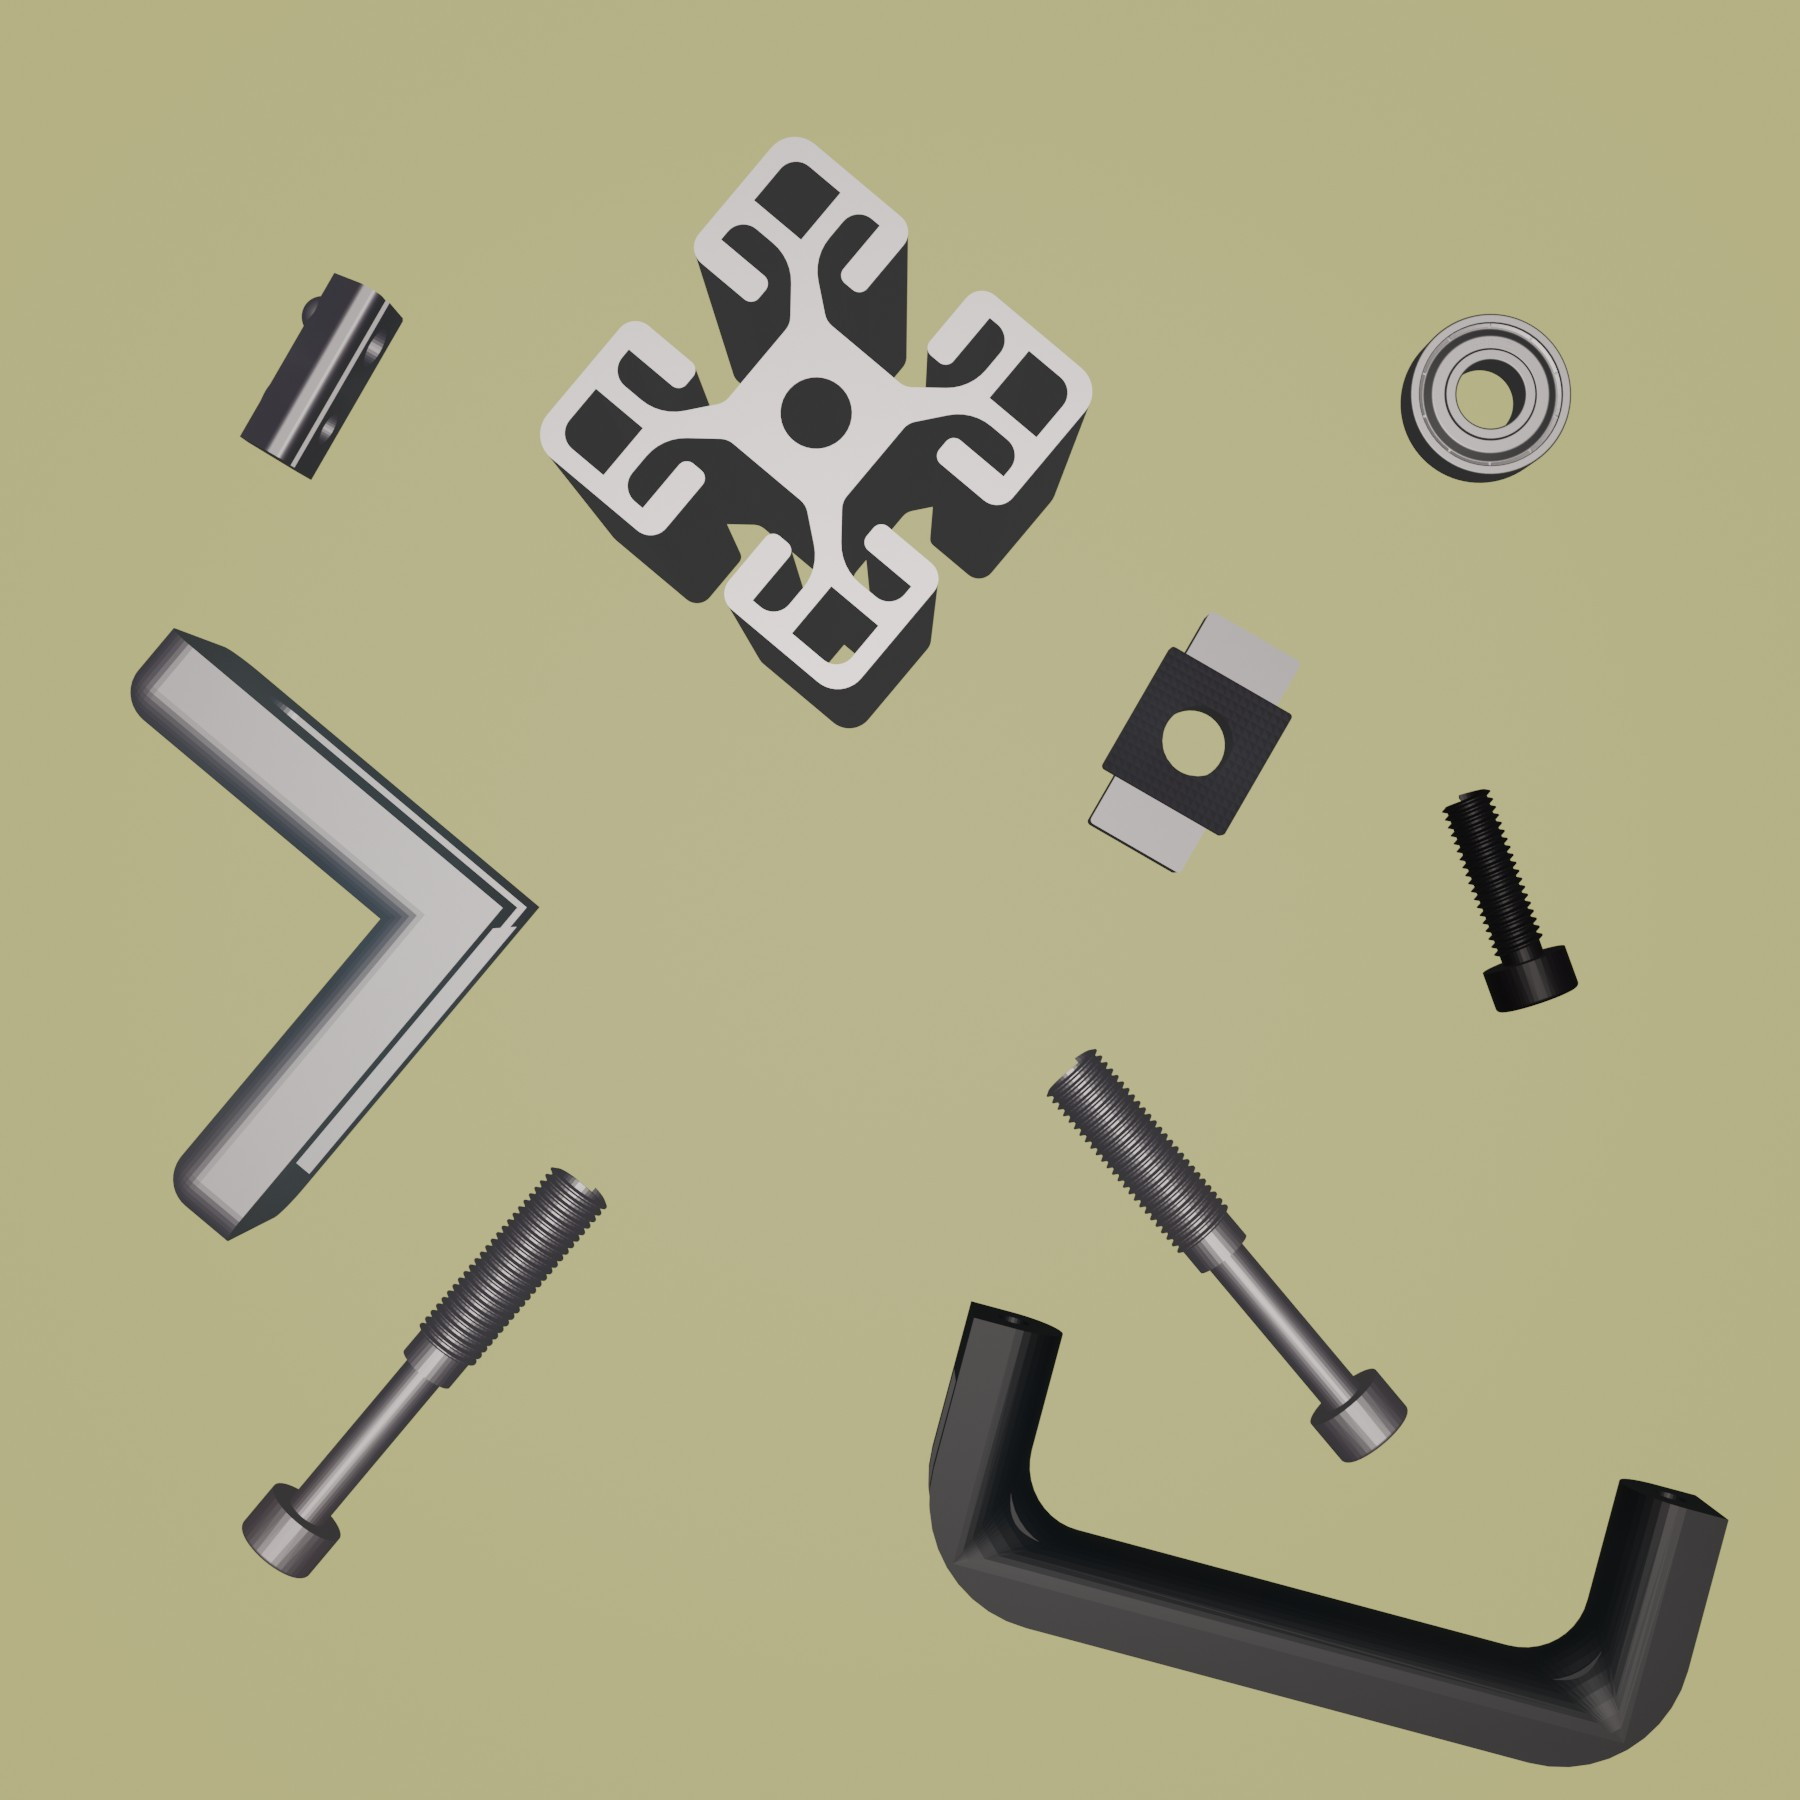Aluminium Extension: (537, 134, 1095, 730)
Ball Bearing: (1398, 312, 1574, 485)
Multiwinkel: (129, 626, 541, 1243)
Pull Handle: (925, 1296, 1729, 1769)
Shoulder Socket Head Cap Screw: (239, 1160, 607, 1581), (1043, 1047, 1409, 1464)
Socket Head Cap Screw: (1441, 785, 1579, 1014)
T Nut Square: (1088, 612, 1305, 877)
T Spring Nut: (237, 270, 405, 481)
